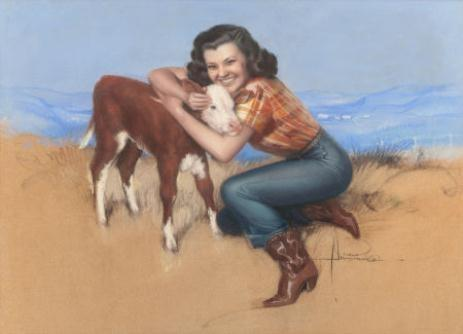person: (169, 28, 359, 314)
